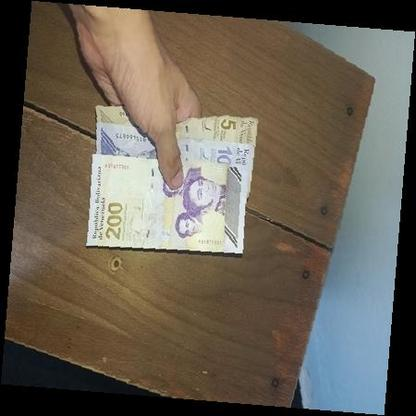two_hundred-front-vef: (85, 154, 245, 256)
